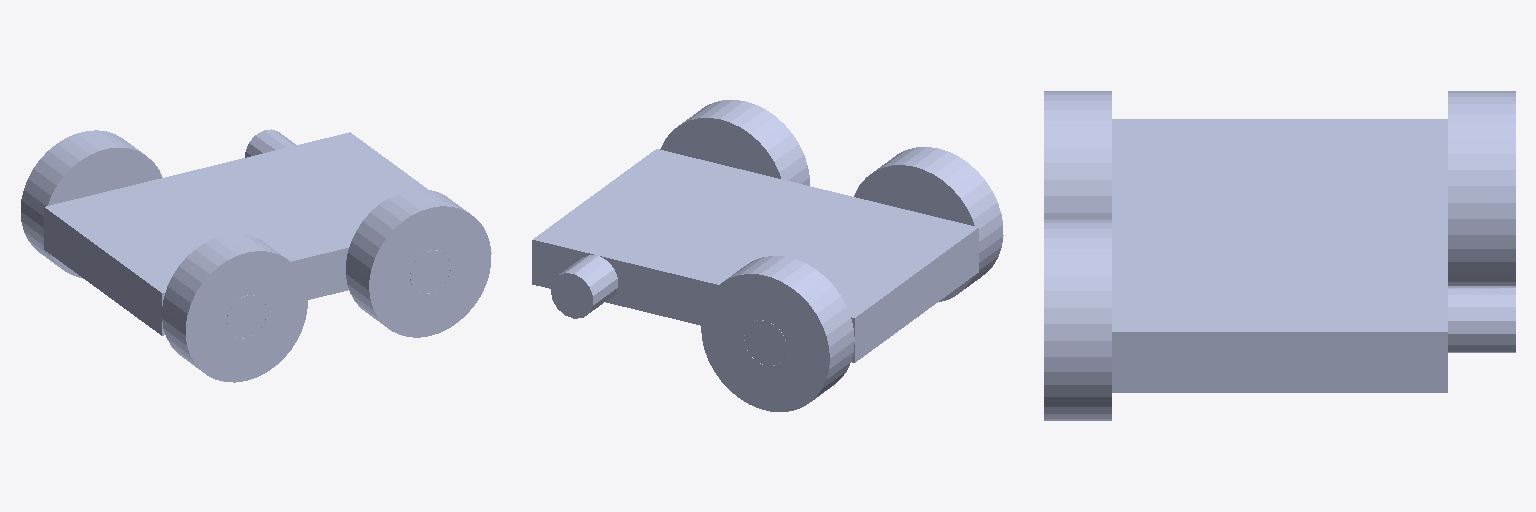
robot.urdf — four_wheels:
<?xml version="1.0" encoding="utf-8"?>
<!-- This URDF was automatically created by SolidWorks to URDF Exporter! Originally created by [author] ([email redacted]) 
     Commit Version: 1.5.1-0-g916b5db  Build Version: 1.5.7152.31018
     For more information, please see http://wiki.ros.org/sw_urdf_exporter -->
<robot
  name="four_wheels">
  <link
    name="base_link">
    <inertial>
      <origin
        xyz="-2.88599003737548E-06 2.78429784610709E-05 6.9119398319632E-06"
        rpy="0 0 0" />
      <mass
        value="0.325132741228718" />
      <inertia
        ixx="0.000351943944995061"
        ixy="-5.03904488416714E-21"
        ixz="-2.15066959263787E-20"
        iyy="0.000955337745983216"
        iyz="-1.79693397686128E-36"
        izz="0.000624650438049591" />
    </inertial>
    <visual>
      <origin
        xyz="0 0 0"
        rpy="0 0 0" />
      <geometry>
        <mesh
          filename="package://four_wheels/meshes/base_link.STL" />
      </geometry>
      <material
        name="">
        <color
          rgba="0.792156862745098 0.819607843137255 0.933333333333333 1" />
      </material>
    </visual>
    <collision>
      <origin
        xyz="0 0 0"
        rpy="0 0 0" />
      <geometry>
        <mesh
          filename="package://four_wheels/meshes/base_link.STL" />
      </geometry>
    </collision>
  </link>
  <link
    name="wheel_1">
    <inertial>
      <origin
        xyz="0 0 -0.01"
        rpy="0 0 0" />
      <mass
        value="0.0502654824574367" />
      <inertia
        ixx="1.42418866962737E-05"
        ixy="4.61406182113248E-38"
        ixz="-7.72318827591196E-38"
        iyy="1.42418866962737E-05"
        iyz="-5.73971850987445E-38"
        izz="2.51327412287184E-05" />
    </inertial>
    <visual>
      <origin
        xyz="0 0 0"
        rpy="0 0 0" />
      <geometry>
        <mesh
          filename="package://four_wheels/meshes/wheel_1.STL" />
      </geometry>
      <material
        name="">
        <color
          rgba="0.792156862745098 0.819607843137255 0.933333333333333 1" />
      </material>
    </visual>
    <collision>
      <origin
        xyz="0 0 0"
        rpy="0 0 0" />
      <geometry>
        <mesh
          filename="package://four_wheels/meshes/wheel_1.STL" />
      </geometry>
    </collision>
  </link>
  <joint
    name="wheel_1"
    type="continuous">
    <origin
      xyz="0.044997 0.049993 2.7843E-05"
      rpy="1.5708 0 0" />
    <parent
      link="base_link" />
    <child
      link="wheel_1" />
    <axis
      xyz="0 0 1" />
  </joint>
  <link
    name="wheel_2">
    <inertial>
      <origin
        xyz="6.93889390390723E-18 0 -0.01"
        rpy="0 0 0" />
      <mass
        value="0.0502654824574367" />
      <inertia
        ixx="1.42418866962737E-05"
        ixy="4.61406182113248E-38"
        ixz="-7.72318827591196E-38"
        iyy="1.42418866962737E-05"
        iyz="-5.73971850987445E-38"
        izz="2.51327412287184E-05" />
    </inertial>
    <visual>
      <origin
        xyz="0 0 0"
        rpy="0 0 0" />
      <geometry>
        <mesh
          filename="package://four_wheels/meshes/wheel_2.STL" />
      </geometry>
      <material
        name="">
        <color
          rgba="0.792156862745098 0.819607843137255 0.933333333333333 1" />
      </material>
    </visual>
    <collision>
      <origin
        xyz="0 0 0"
        rpy="0 0 0" />
      <geometry>
        <mesh
          filename="package://four_wheels/meshes/wheel_2.STL" />
      </geometry>
    </collision>
  </link>
  <joint
    name="wheel_2"
    type="continuous">
    <origin
      xyz="-0.045003 0.049993 2.7843E-05"
      rpy="1.5708 0 0" />
    <parent
      link="base_link" />
    <child
      link="wheel_2" />
    <axis
      xyz="0 0 1" />
  </joint>
  <link
    name="wheel_3">
    <inertial>
      <origin
        xyz="0 -3.46944695195361E-18 -0.01"
        rpy="0 0 0" />
      <mass
        value="0.0502654824574367" />
      <inertia
        ixx="1.42418866962737E-05"
        ixy="-8.470329472543E-22"
        ixz="-3.68961066208544E-22"
        iyy="1.42418866962737E-05"
        iyz="1.52657646046783E-22"
        izz="2.51327412287184E-05" />
    </inertial>
    <visual>
      <origin
        xyz="0 0 0"
        rpy="0 0 0" />
      <geometry>
        <mesh
          filename="package://four_wheels/meshes/wheel_3.STL" />
      </geometry>
      <material
        name="">
        <color
          rgba="0.792156862745098 0.819607843137255 0.933333333333333 1" />
      </material>
    </visual>
    <collision>
      <origin
        xyz="0 0 0"
        rpy="0 0 0" />
      <geometry>
        <mesh
          filename="package://four_wheels/meshes/wheel_3.STL" />
      </geometry>
    </collision>
  </link>
  <joint
    name="wheel_3"
    type="continuous">
    <origin
      xyz="-0.045003 -0.050007 2.7843E-05"
      rpy="1.5708 0.39309 -3.1416" />
    <parent
      link="base_link" />
    <child
      link="wheel_3" />
    <axis
      xyz="0 0 1" />
  </joint>
  <link
    name="wheel_4">
    <inertial>
      <origin
        xyz="0 0 -0.01"
        rpy="0 0 0" />
      <mass
        value="0.0502654824574367" />
      <inertia
        ixx="1.42418866962737E-05"
        ixy="-8.470329472543E-22"
        ixz="-4.86320594062441E-38"
        iyy="1.42418866962737E-05"
        iyz="3.28870250746385E-38"
        izz="2.51327412287184E-05" />
    </inertial>
    <visual>
      <origin
        xyz="0 0 0"
        rpy="0 0 0" />
      <geometry>
        <mesh
          filename="package://four_wheels/meshes/wheel_4.STL" />
      </geometry>
      <material
        name="">
        <color
          rgba="0.792156862745098 0.819607843137255 0.933333333333333 1" />
      </material>
    </visual>
    <collision>
      <origin
        xyz="0 0 0"
        rpy="0 0 0" />
      <geometry>
        <mesh
          filename="package://four_wheels/meshes/wheel_4.STL" />
      </geometry>
    </collision>
  </link>
  <joint
    name="wheel_4"
    type="continuous">
    <origin
      xyz="0.044997 -0.050007 2.7843E-05"
      rpy="1.5708 0.39309 -3.1416" />
    <parent
      link="base_link" />
    <child
      link="wheel_4" />
    <axis
      xyz="0 0 1" />
  </joint>
</robot>

--- Render facts (derived) ---
The picture shows the robot from 3 angles, left to right: view 1: azimuth 30°, elevation 25°; view 2: azimuth 150°, elevation 25°; view 3: azimuth 270°, elevation 25°; orthographic projection.
Robot: four_wheels — 5 links, 4 joints (4 continuous); root link base_link; default pose: all joints at 0.
Links seen in each view (by area): view 1: base_link, wheel_3, wheel_4, wheel_2; view 2: base_link, wheel_2, wheel_3, wheel_4; view 3: base_link, wheel_4, wheel_2, wheel_3.
Link boxes in pixels (x1=…): base_link: x1=44, y1=129, x2=450, y2=338; wheel_3: x1=162, y1=234, x2=307, y2=382; wheel_4: x1=346, y1=189, x2=491, y2=337; wheel_2: x1=21, y1=130, x2=162, y2=277; base_link: x1=532, y1=149, x2=978, y2=365; wheel_2: x1=701, y1=256, x2=854, y2=411; wheel_3: x1=854, y1=147, x2=1003, y2=301; wheel_4: x1=660, y1=100, x2=809, y2=185; base_link: x1=1112, y1=119, x2=1515, y2=392; wheel_4: x1=1044, y1=219, x2=1111, y2=420; wheel_2: x1=1448, y1=91, x2=1515, y2=285; wheel_3: x1=1044, y1=91, x2=1111, y2=218.
Size in the robot's own frame: 0.15 by 0.14 by 0.06 metres.
4 mesh visuals loaded from 5 distinct referenced files (4 binary STL); not drawn: 1 (reference not matched to a file when rendering).